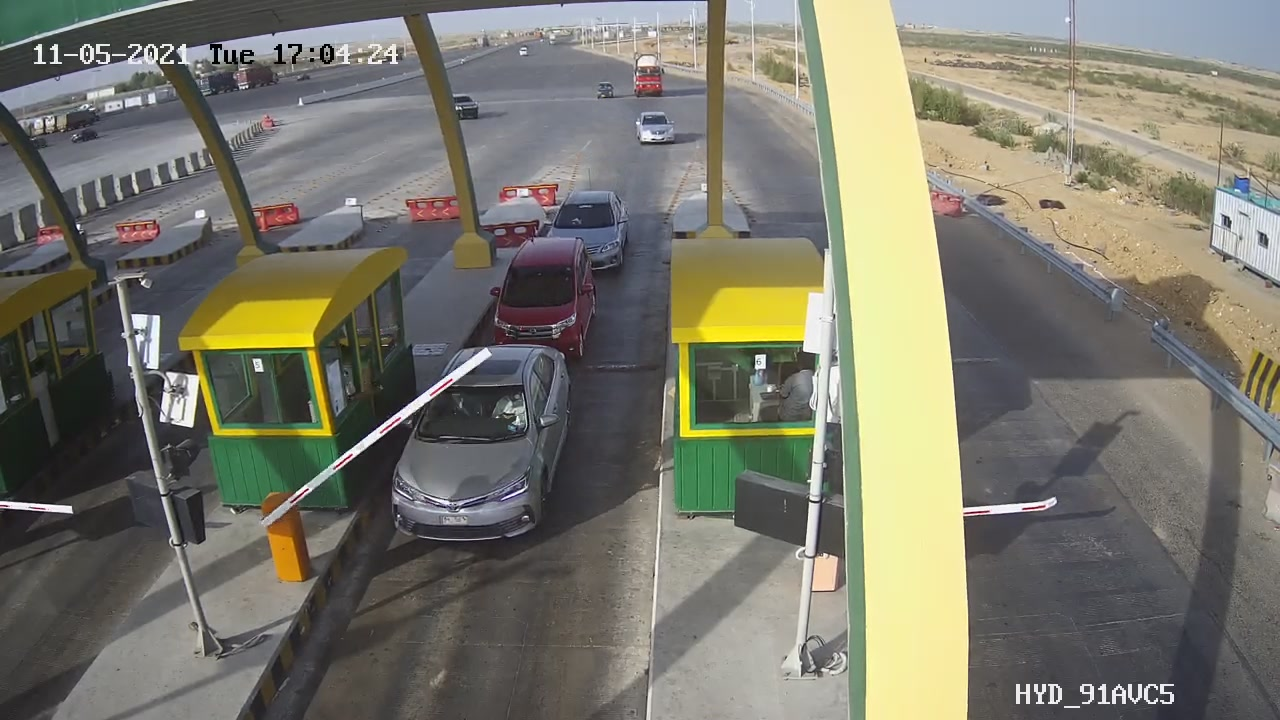F1: (373, 327, 601, 581), (474, 226, 616, 377)
